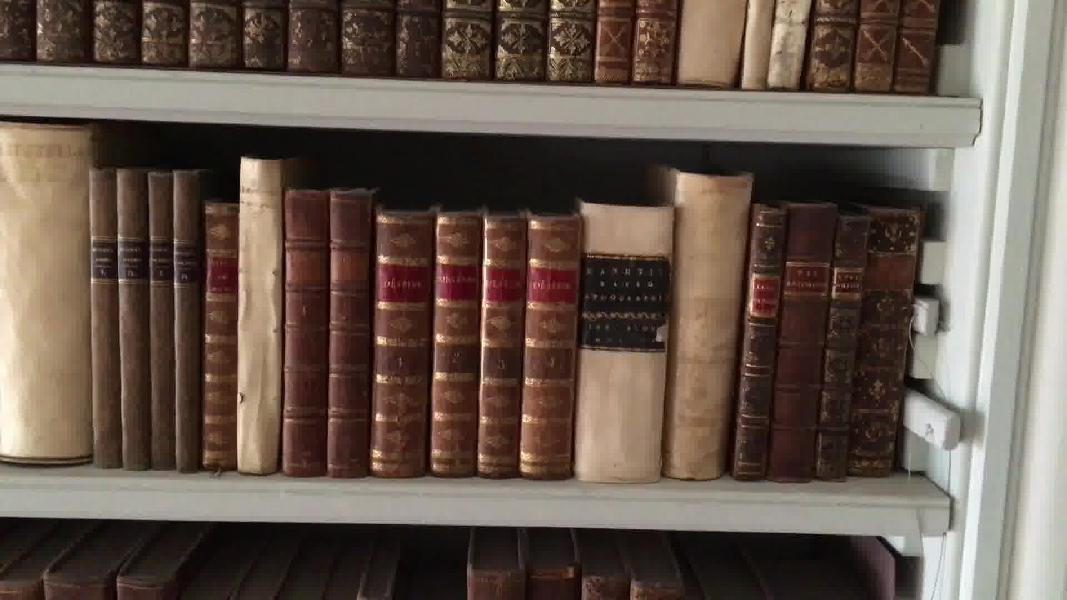Kk4-14: (1, 118, 97, 468)
Kk4-15_16: (82, 164, 154, 473)
Kk4-17_18: (142, 163, 210, 478)
Kk4-19: (200, 198, 243, 477)
Kk4-20: (234, 155, 287, 475)
Kk4-21_22: (282, 182, 377, 484)
Kk4-23_26: (372, 209, 584, 477)
Kk4-27: (570, 196, 678, 489)
Kk4-28: (667, 175, 752, 482)
Kk4-29: (734, 202, 790, 482)
Kk4-30: (763, 198, 836, 490)
Kk4-31: (817, 207, 868, 484)
Kk4-32: (851, 203, 920, 480)
